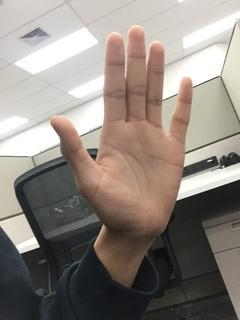hand: (48, 25, 193, 227)
